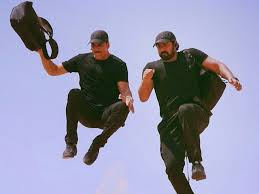Caution: (40, 29, 244, 192)
